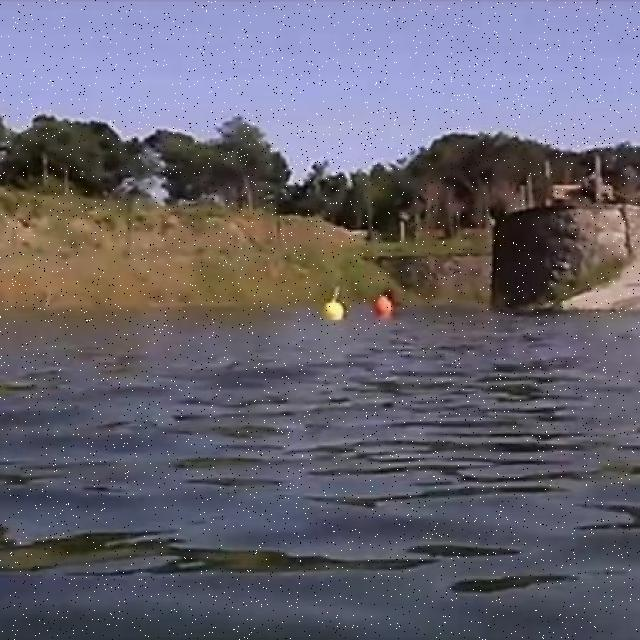buoy: (375, 290, 394, 314), (326, 302, 345, 322)
